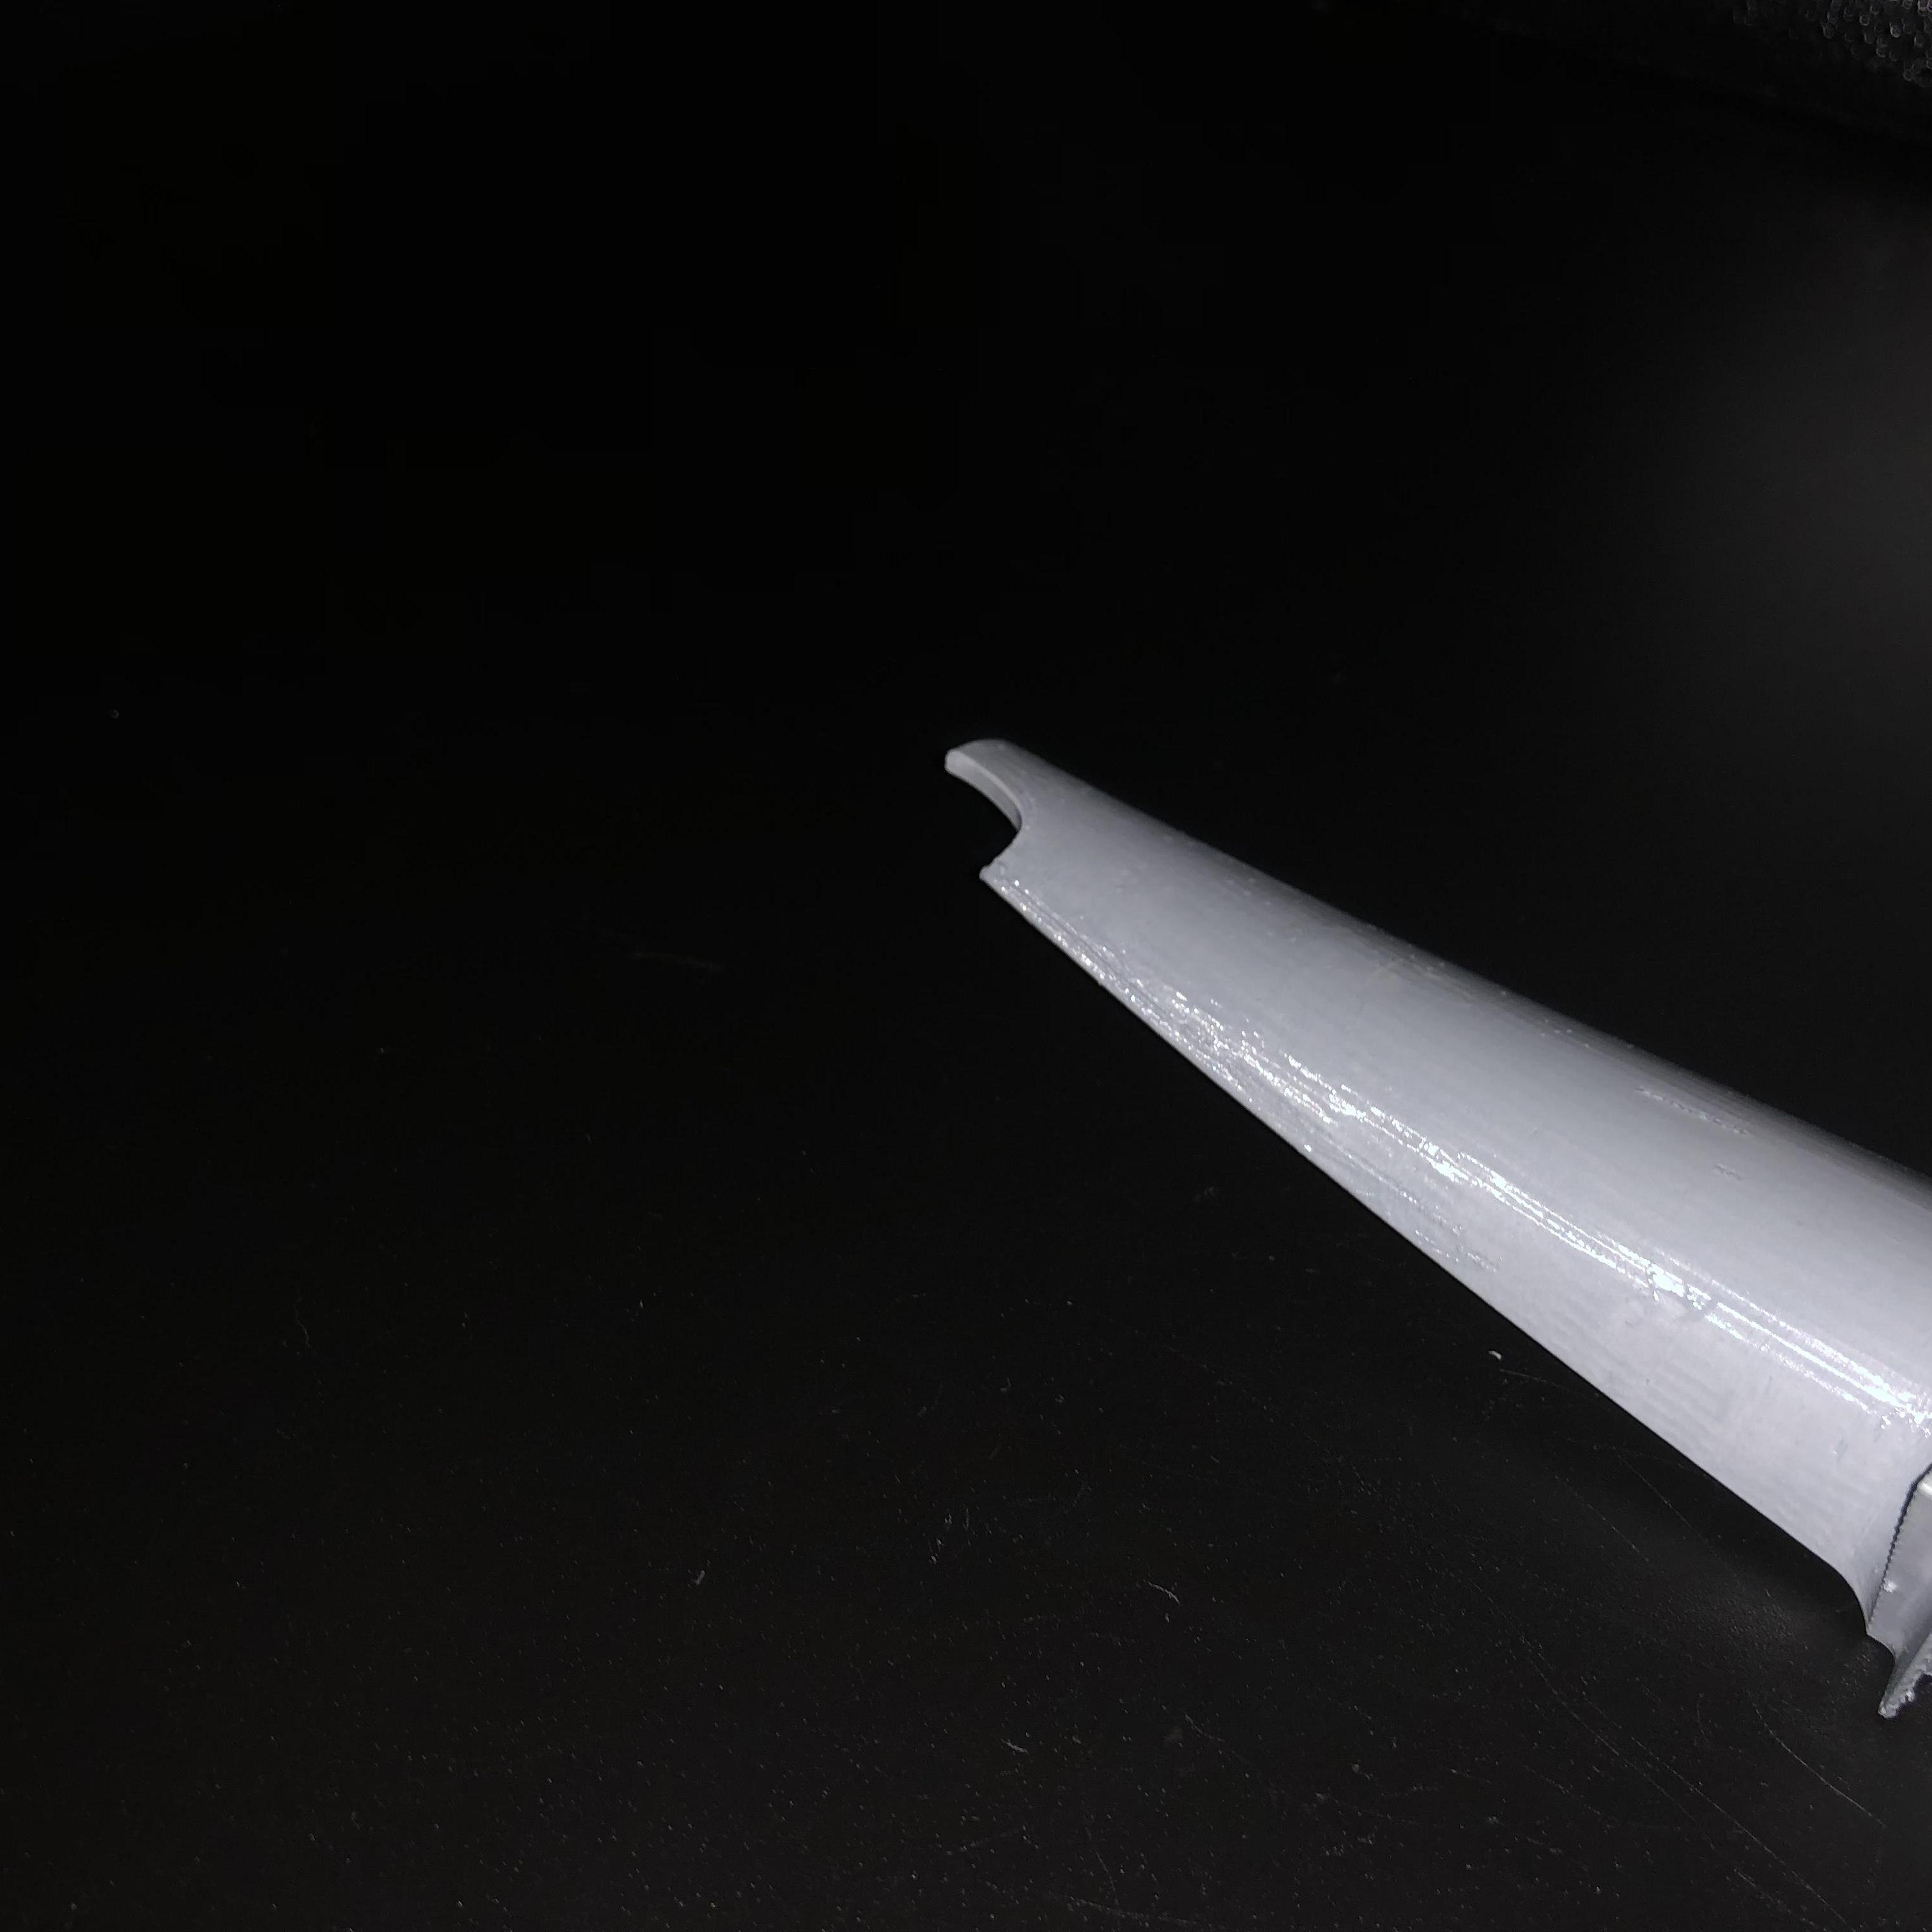fracture: (945, 761, 1039, 888)
